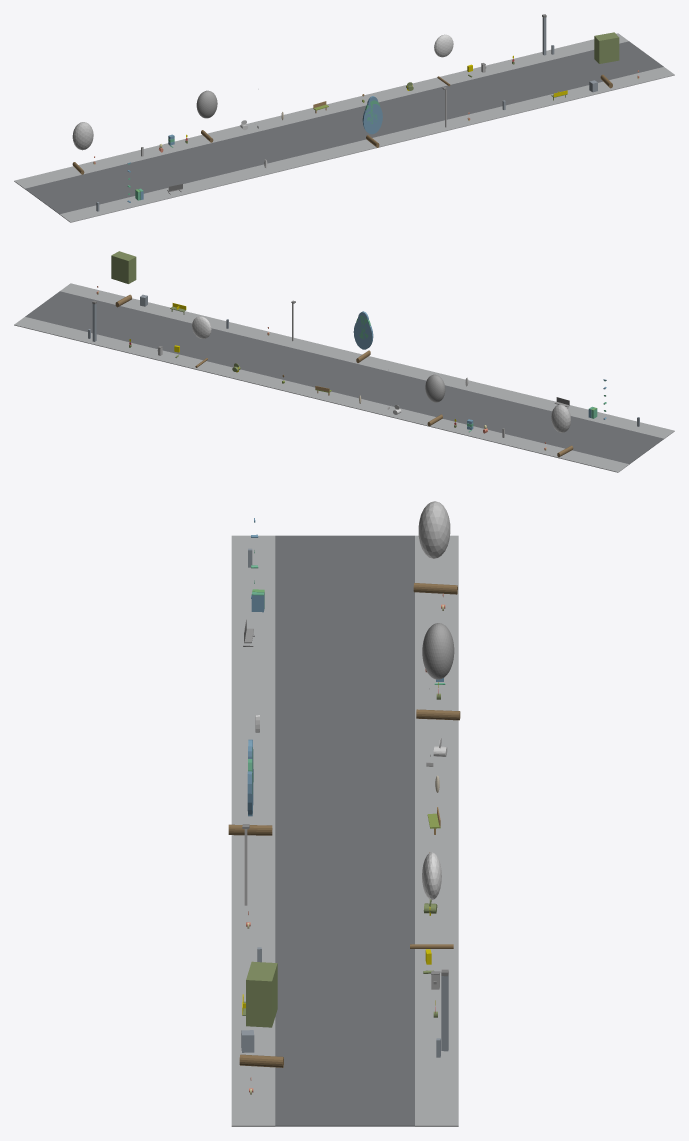
3 views of the same model, one above another, from view 1: azimuth 30°, elevation 25°; view 2: azimuth 150°, elevation 25°; view 3: azimuth 270°, elevation 25° (orthographic). The views are drawn at different scales.
Parts seen in each view (by area): view 1: road_slab, sidewalk_left, sidewalk_right, inst_0016, inst_0014, inst_0012, inst_0013, inst_0015; view 2: road_slab, sidewalk_right, sidewalk_left, inst_0016, inst_0014, inst_0012, inst_0013, inst_0015; view 3: road_slab, sidewalk_left, sidewalk_right, inst_0016, inst_0012, inst_0013, inst_0015, inst_0014.
Part boxes in pixels (x1,y1,x2,y2): road_slab: (25,41,663,214); sidewalk_left: (59,67,674,222); sidewalk_right: (14,33,628,188); inst_0016: (594,32,619,88); inst_0014: (362,96,382,147); inst_0012: (72,122,93,174); inst_0013: (196,90,217,142); inst_0015: (434,34,453,86); road_slab: (25,291,663,464); sidewalk_right: (14,317,629,472); sidewalk_left: (60,283,674,438); inst_0016: (111,251,136,307); inst_0014: (353,311,373,362); inst_0012: (551,404,573,457); inst_0013: (425,374,445,426); inst_0015: (192,316,211,367); road_slab: (275,535,414,1126); sidewalk_left: (231,535,275,1126); sidewalk_right: (415,535,458,1126); inst_0016: (239,961,283,1067); inst_0012: (413,501,457,594); inst_0013: (416,623,460,720); inst_0015: (410,852,453,948); inst_0014: (228,739,272,835).
Bounding box in the file's own units: 80 × 6.08 × 13.28.
